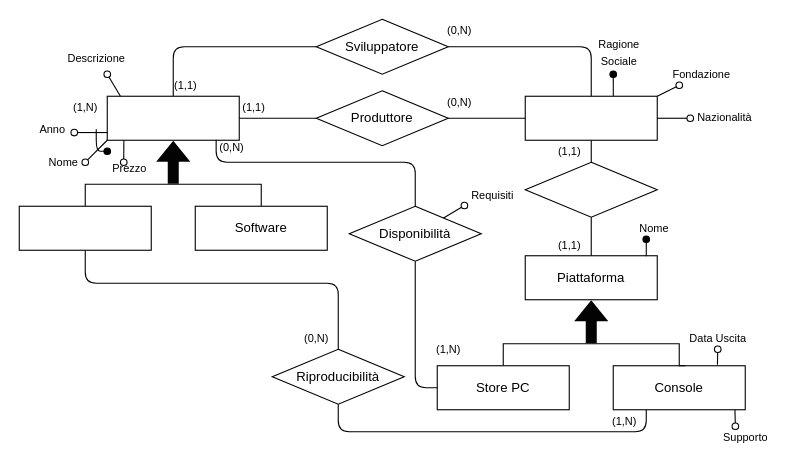
Some shapes in this 798 by 468 pixel diagram are drawn without their labels. The centre of each missing label's shape, as x and y in pixels:
Compagnia: the point at 590,117
Gioco: the point at 84,227
Prodotto: the point at 172,117
Proprietà: the point at 590,189
